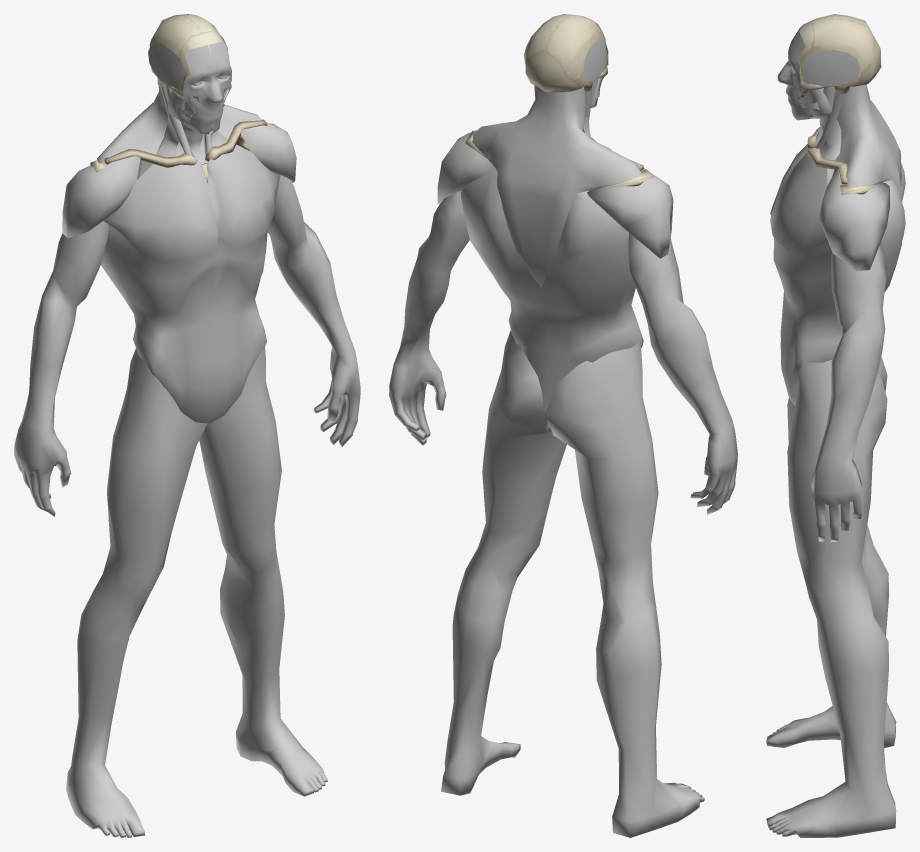
File: skeleton_muscules.fbx
3 renders of one model, left to right at view 1: azimuth 30°, elevation 25°; view 2: azimuth 150°, elevation 25°; view 3: azimuth 270°, elevation 25°, orthographic.
Parts seen in each view (by area): view 1: muscules, skeleton3; view 2: muscules, skeleton3; view 3: muscules, skeleton3.
Part boxes in pixels (x1,y1,x2,y2): muscules: [14, 35, 360, 837]; skeleton3: [90, 14, 277, 198]; muscules: [389, 22, 737, 837]; skeleton3: [465, 14, 654, 187]; muscules: [766, 26, 905, 837]; skeleton3: [794, 14, 881, 194].
Size of the model in its own units: 380 by 844 by 139.
